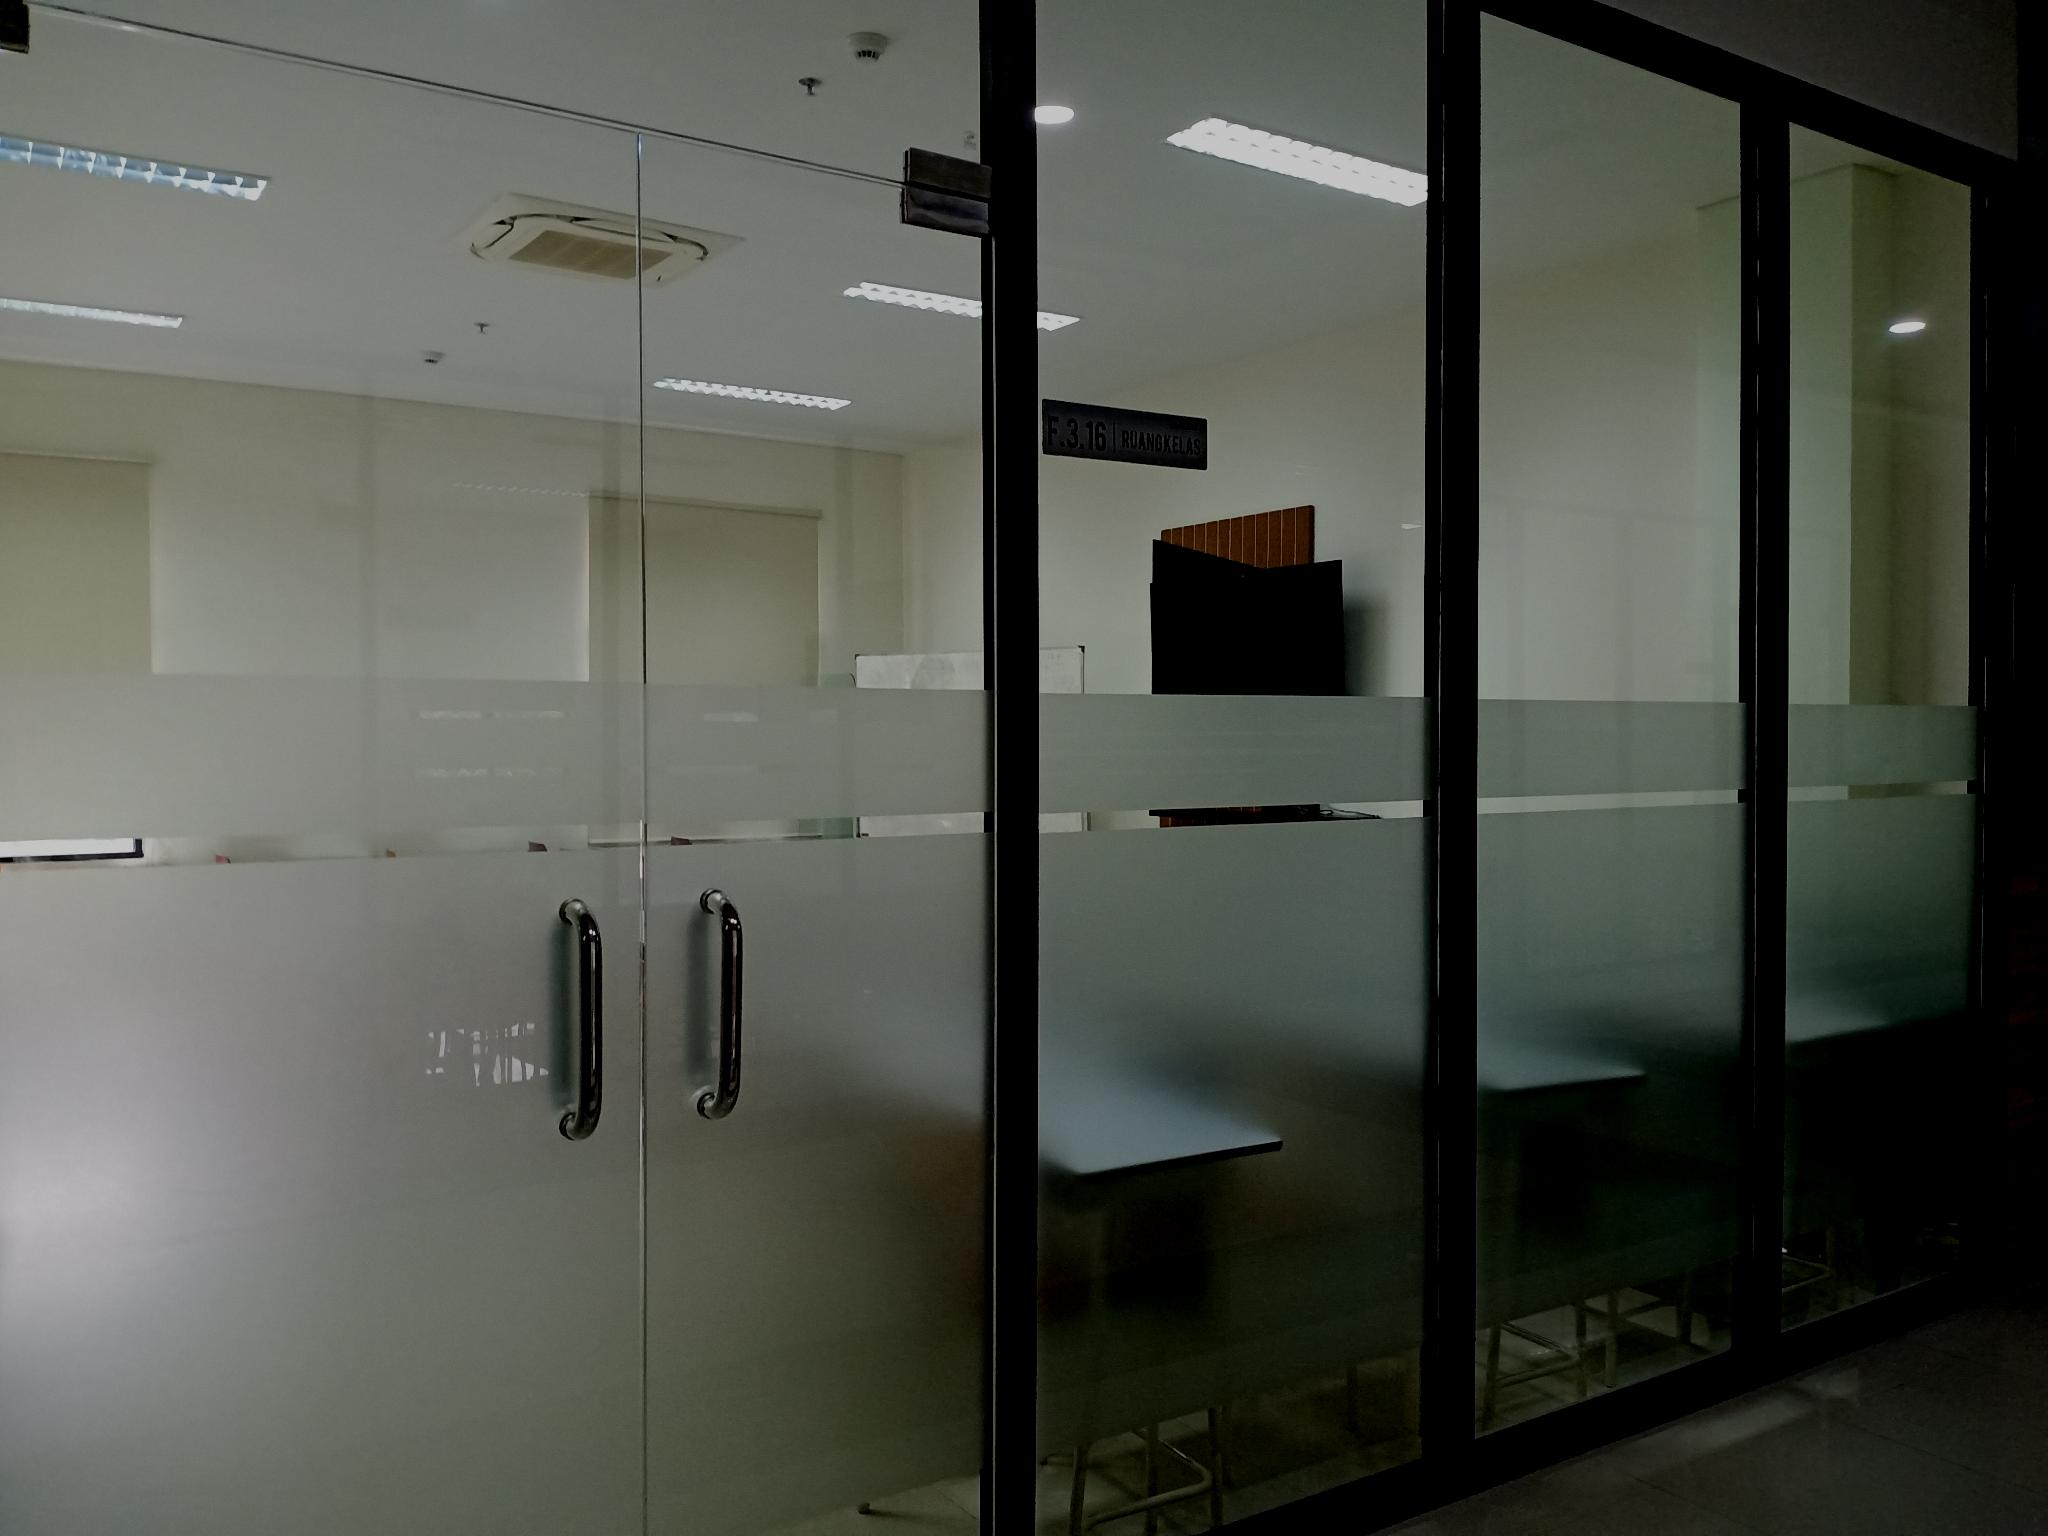plate: (1042, 399, 1206, 470)
